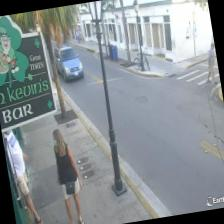person: (49, 126, 89, 224)
